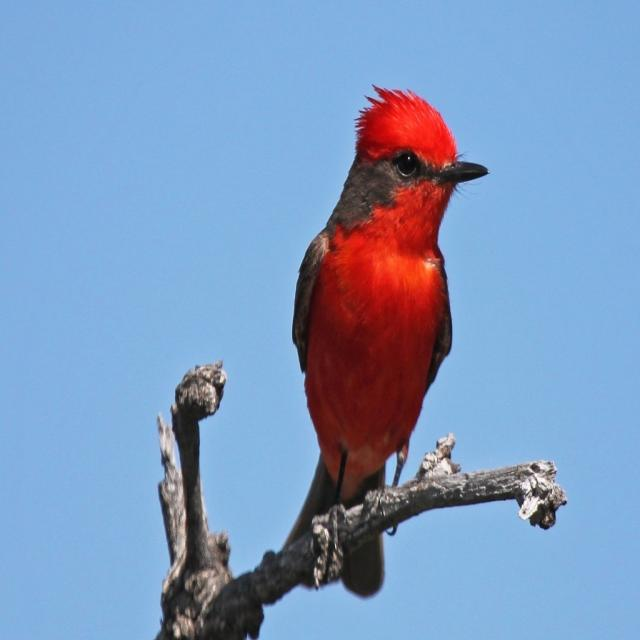bird: (281, 62, 491, 615)
